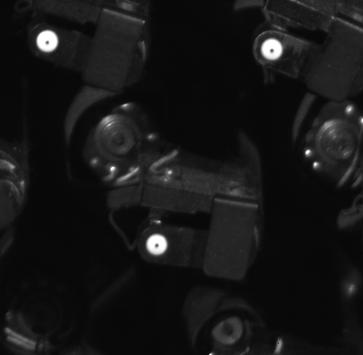fiber: (139, 228, 176, 261), (31, 26, 64, 59), (254, 34, 289, 65)
